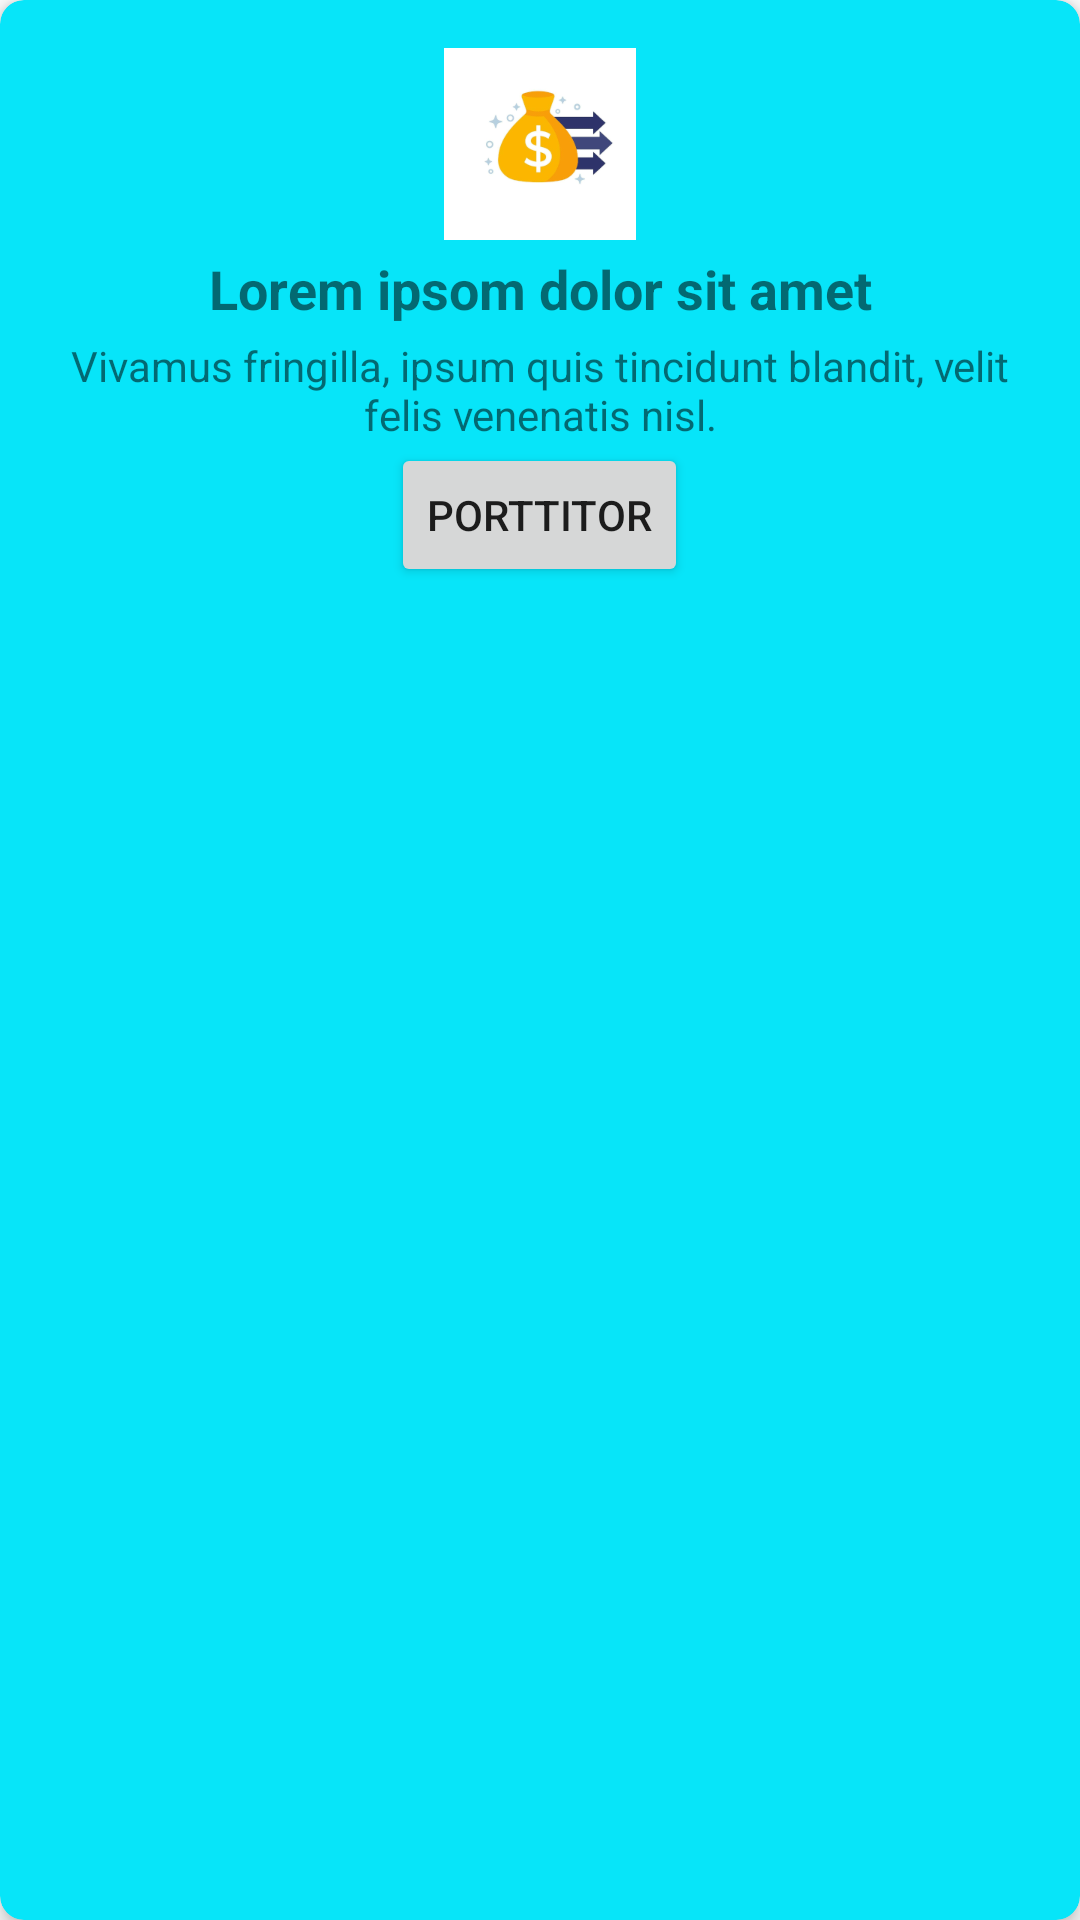

Locate icon controls on the screen. Image size 1080x1920, boxes as (x1, y1, x2, y2).
lump sum withdrawal card: (444, 48, 636, 240)
